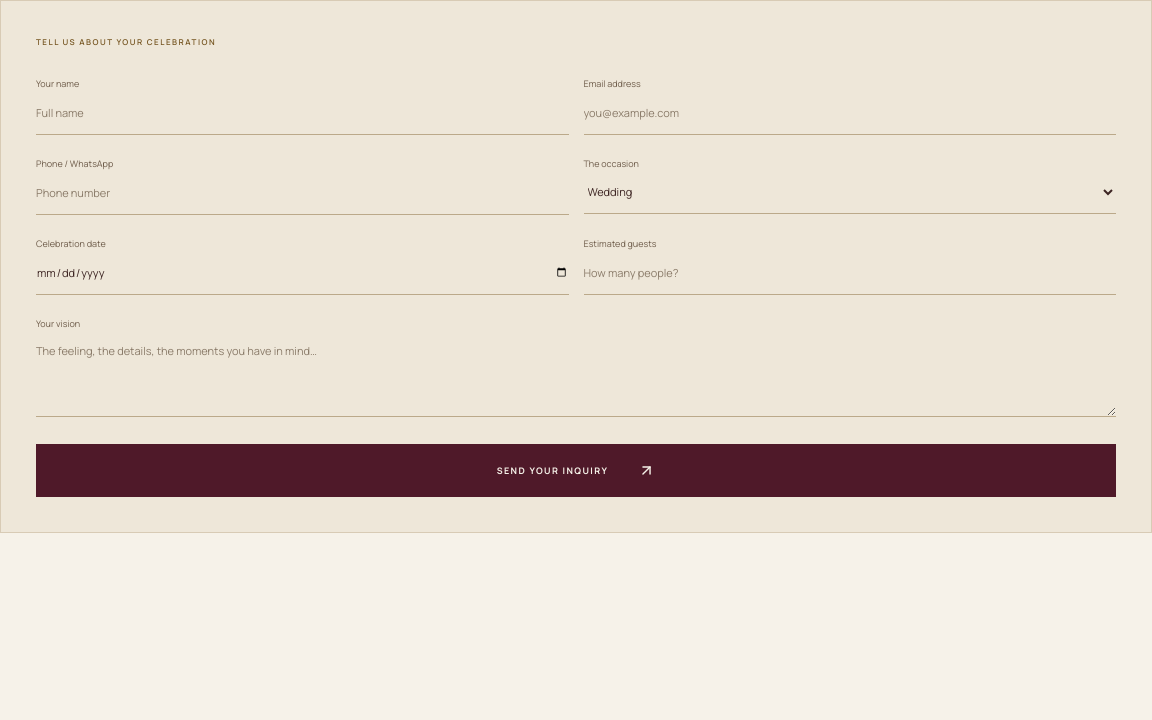
Test case: missing key never sends or reports success
The width and height of the screenshot is (1152, 720).
Type "Test Visitor" into the field labelled "Your name" at {"x": 302, "y": 112}, box 36,90 -> 568,135
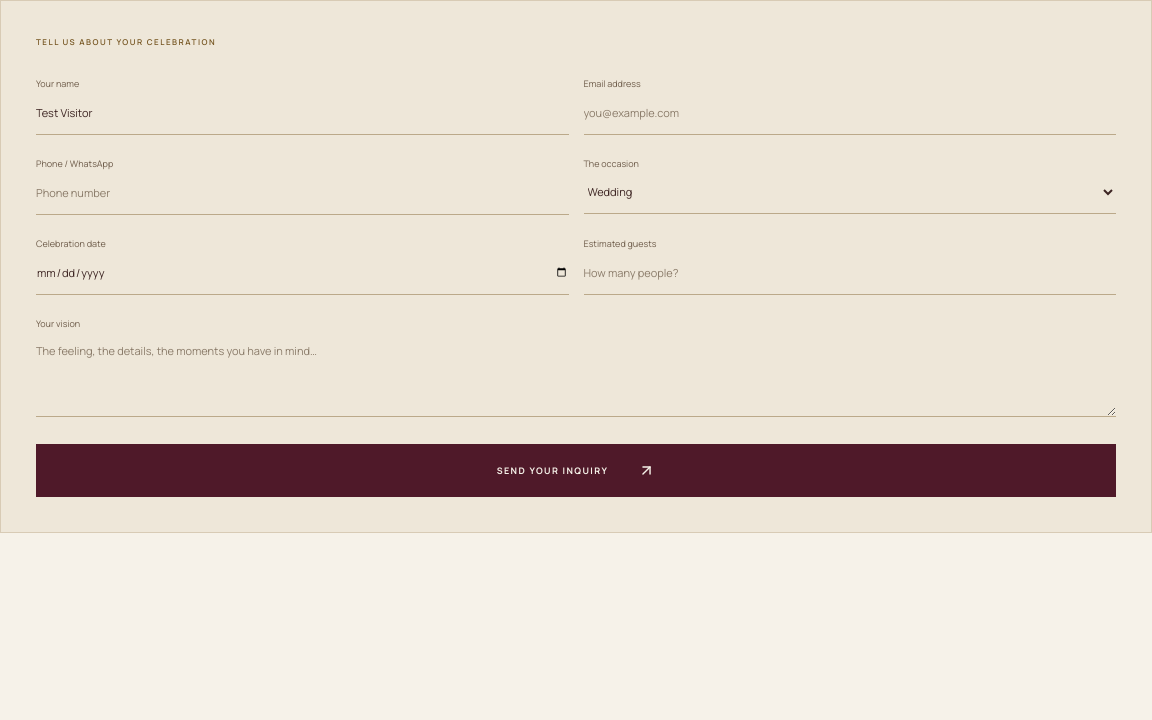
Type "visitor@example.com" into the field labelled "Email address" at {"x": 850, "y": 112}, box 584,90 -> 1116,135
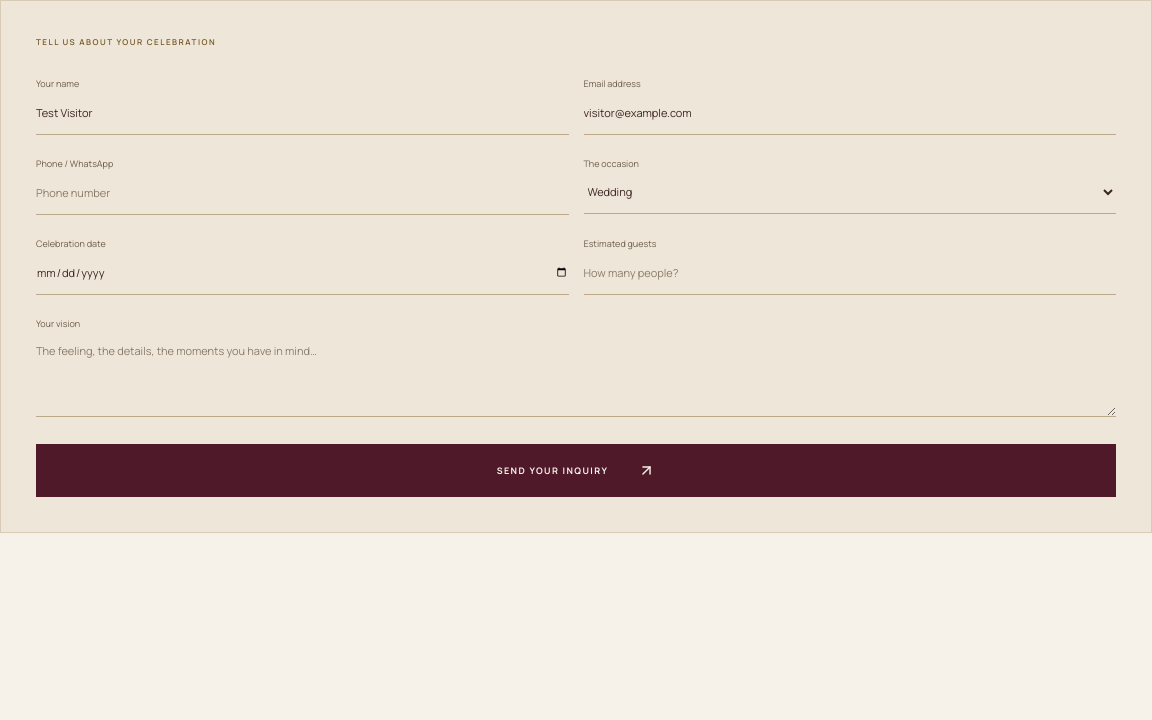
Type "Test celebration" into the text box labelled "Your vision" at {"x": 576, "y": 374}, box 36,330 -> 1116,417
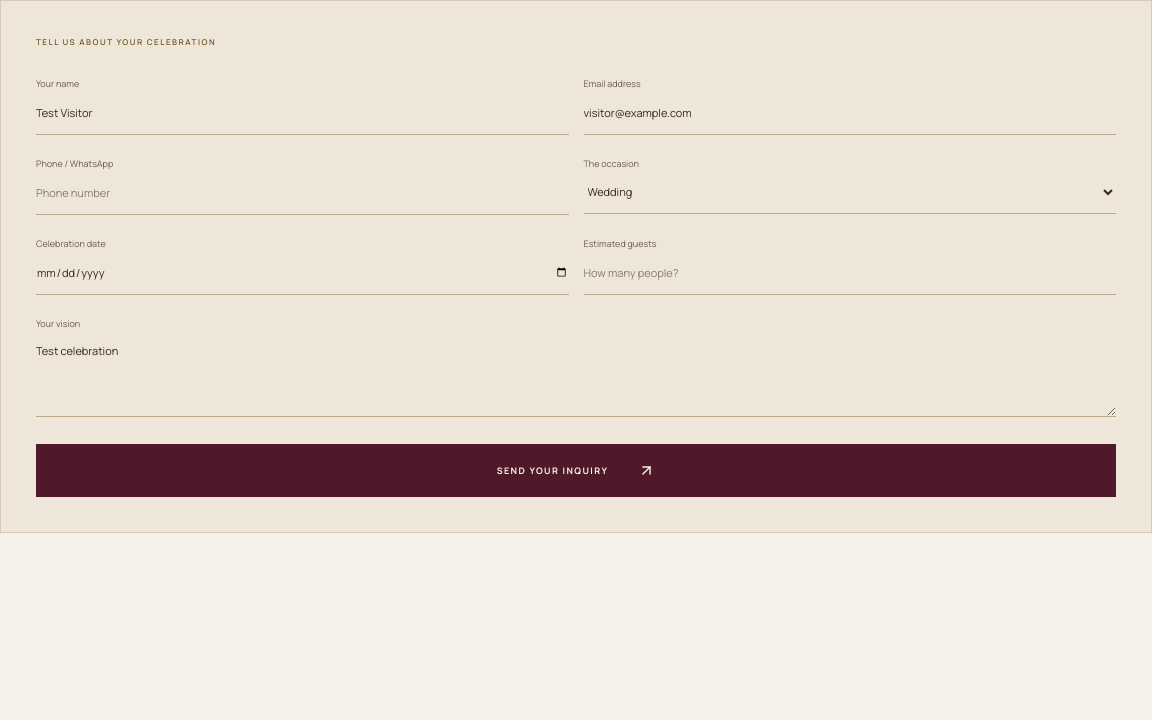
Submit the form named "Send your inquiry"
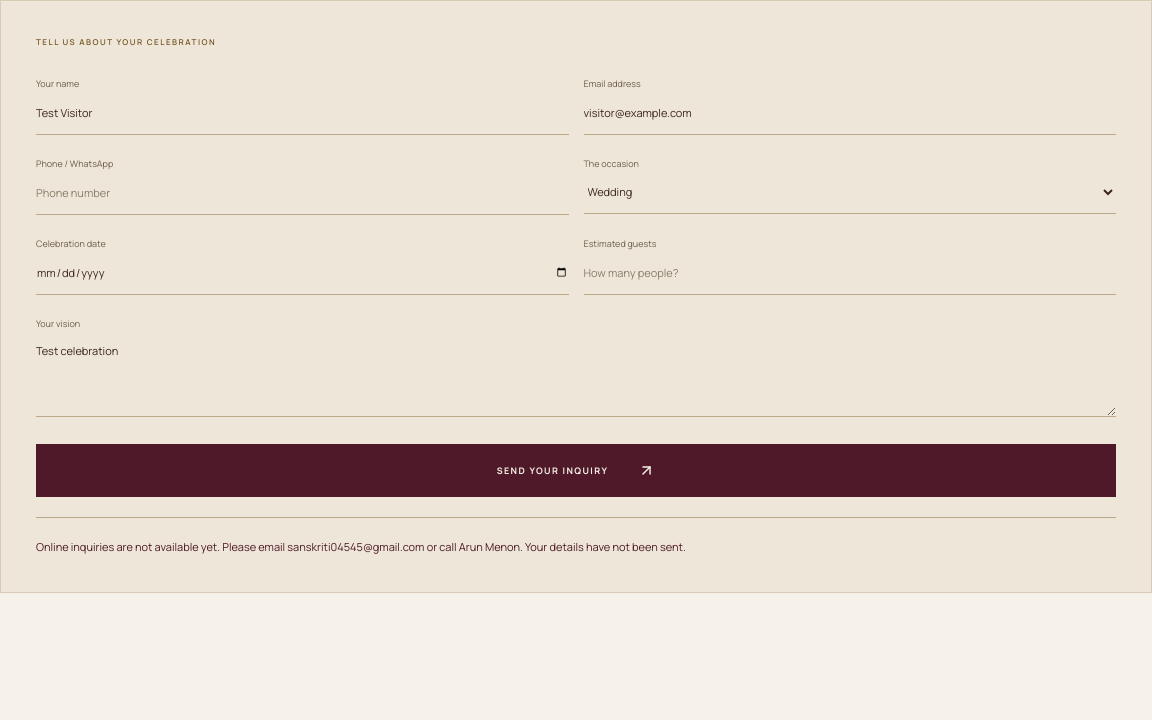
Now the message shows "Your details have not been sent", box 36,539 -> 686,554
